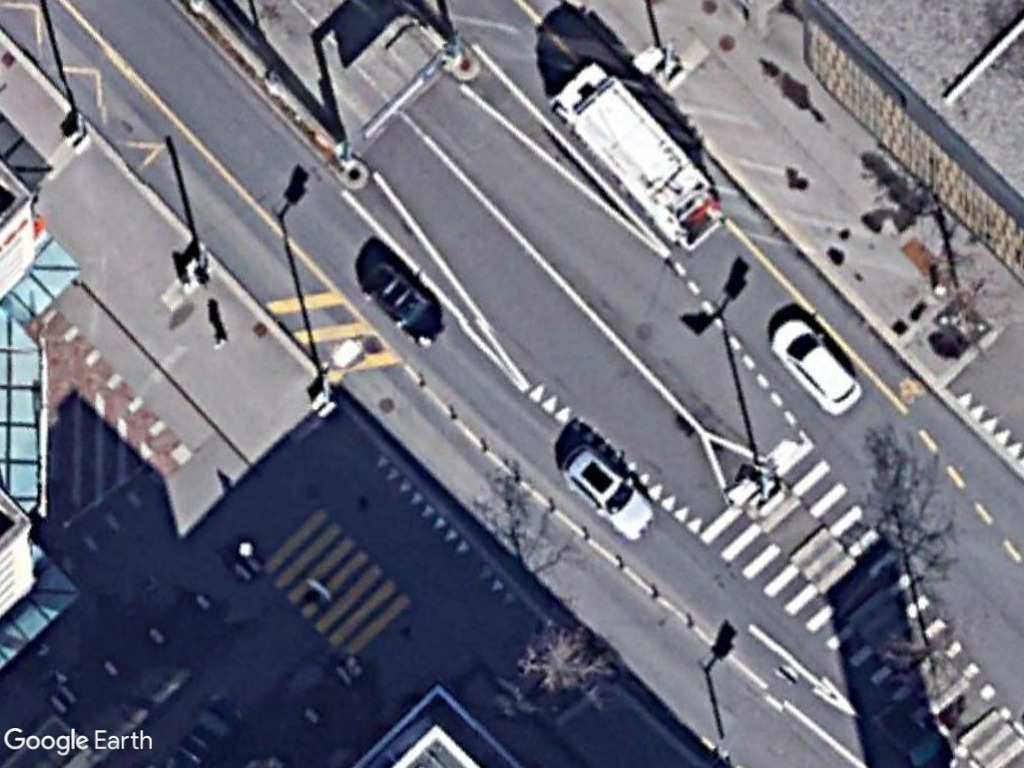car: (556, 440, 661, 549), (768, 311, 863, 421), (364, 258, 449, 351)
